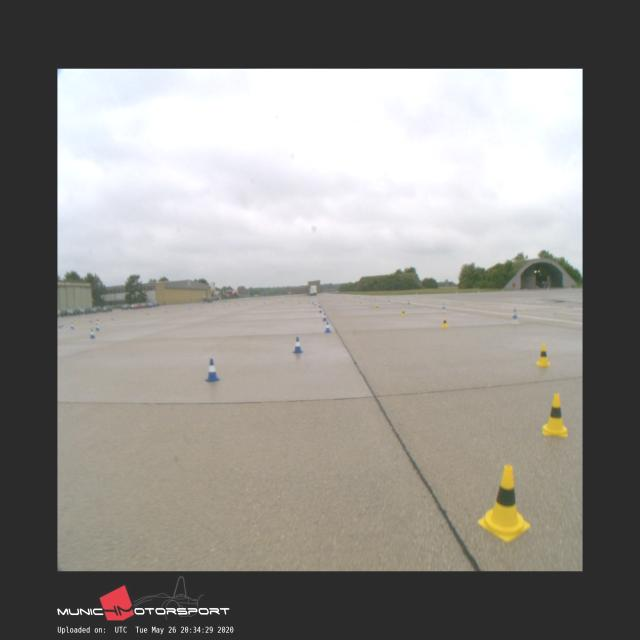blue_cone: (204, 358, 220, 381), (292, 338, 304, 352)
yellow_cone: (478, 464, 530, 540), (540, 394, 566, 436), (535, 345, 548, 365)
